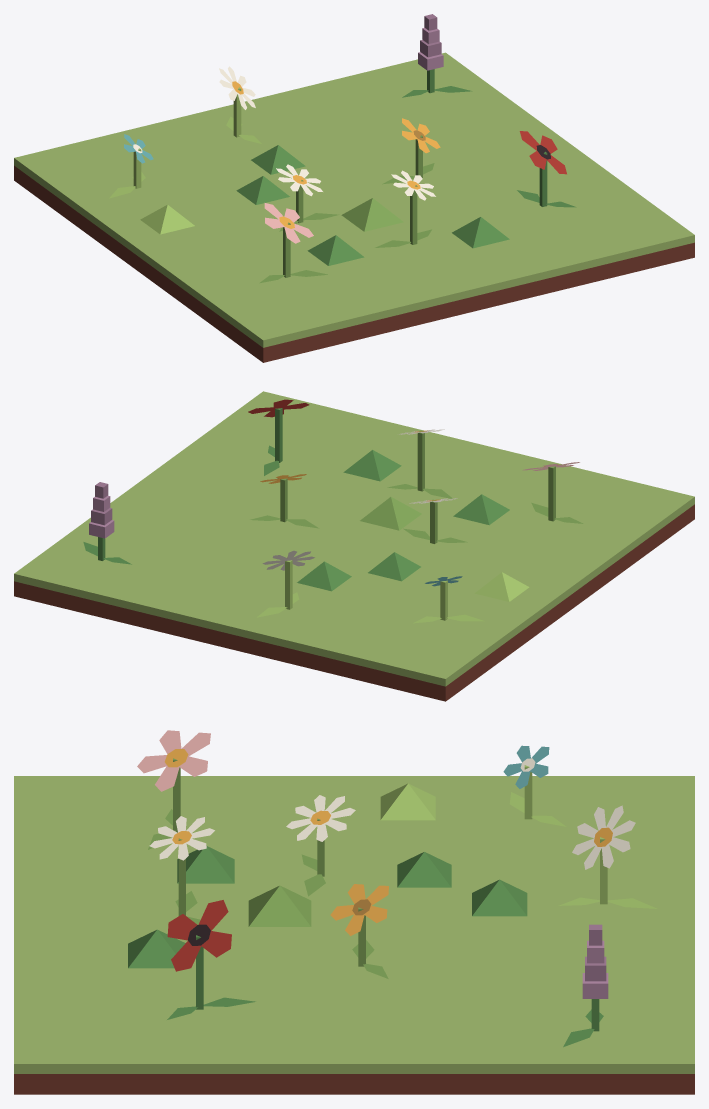
The model's file is wildflowers.glb.
3 renders of one model, top to bottom at view 1: azimuth 30°, elevation 25°; view 2: azimuth 150°, elevation 25°; view 3: azimuth 270°, elevation 25°, orthographic. The views are drawn at different scales.
Parts seen in each view (by area): view 1: body, head-4, head-7, head-3, head-1, head-2, head-6, head-5; view 2: body, head-4; view 3: body, head-7, head-3, head-1, head-4, head-2, head-5, head-6, head-0.
Boxes of the visible parts, bbox=[...] form: body: bbox=[14, 52, 694, 362]; head-4: bbox=[418, 14, 443, 70]; head-7: bbox=[519, 131, 566, 174]; head-3: bbox=[264, 203, 313, 243]; head-1: bbox=[219, 66, 255, 109]; head-2: bbox=[276, 164, 322, 196]; head-6: bbox=[391, 170, 435, 200]; head-5: bbox=[402, 118, 440, 153]; body: bbox=[14, 391, 694, 701]; head-4: bbox=[89, 482, 114, 538]; body: bbox=[14, 758, 694, 1094]; head-7: bbox=[167, 900, 231, 971]; head-3: bbox=[137, 730, 210, 791]; head-1: bbox=[572, 805, 635, 869]; head-4: bbox=[582, 924, 608, 998]; head-2: bbox=[286, 795, 355, 841]; head-5: bbox=[330, 884, 388, 935]; head-6: bbox=[149, 816, 214, 860]; head-0: bbox=[503, 745, 549, 788].
Size of the model in its own units: 3 by 0.6475 by 3.
